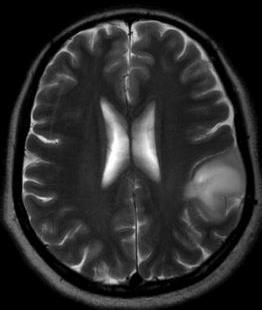Normal_Brain: (2, 1, 262, 310)
